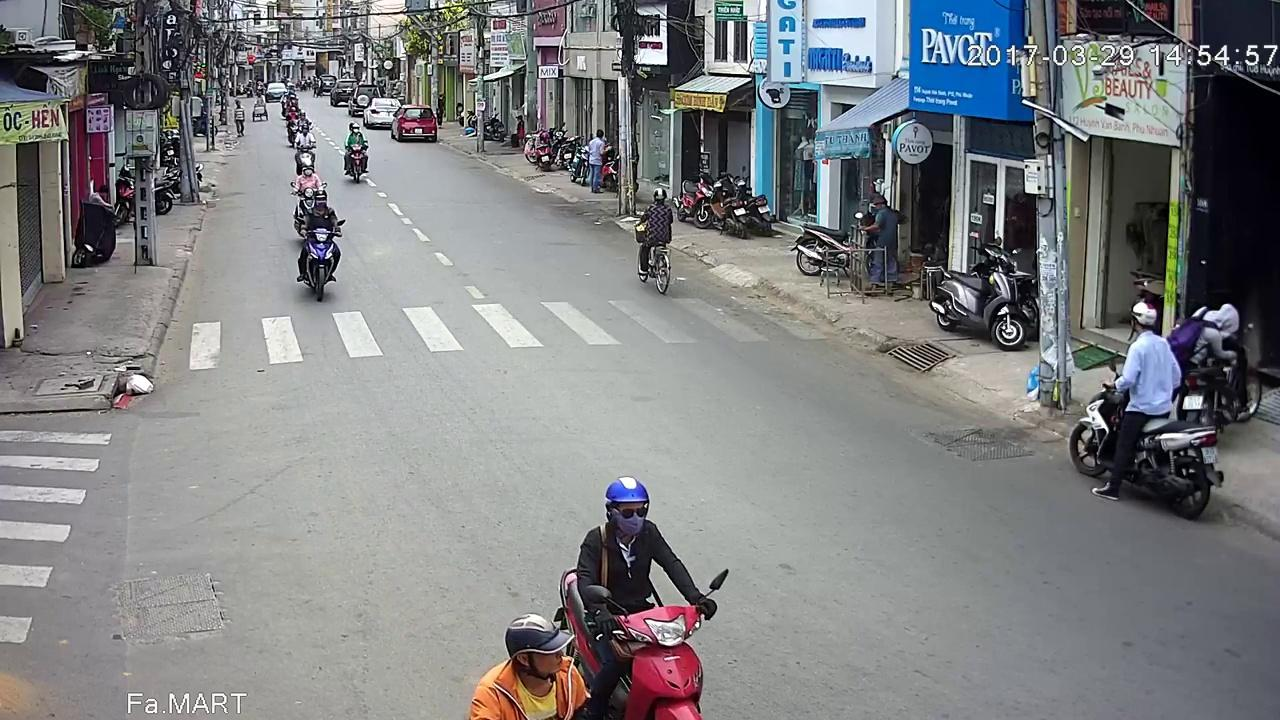xe dap: (637, 184, 680, 294)
xe hoi: (390, 104, 440, 142)
xe may: (559, 444, 710, 720), (1069, 297, 1224, 517), (301, 195, 347, 296), (290, 162, 328, 232), (341, 123, 373, 184), (296, 124, 317, 175)
